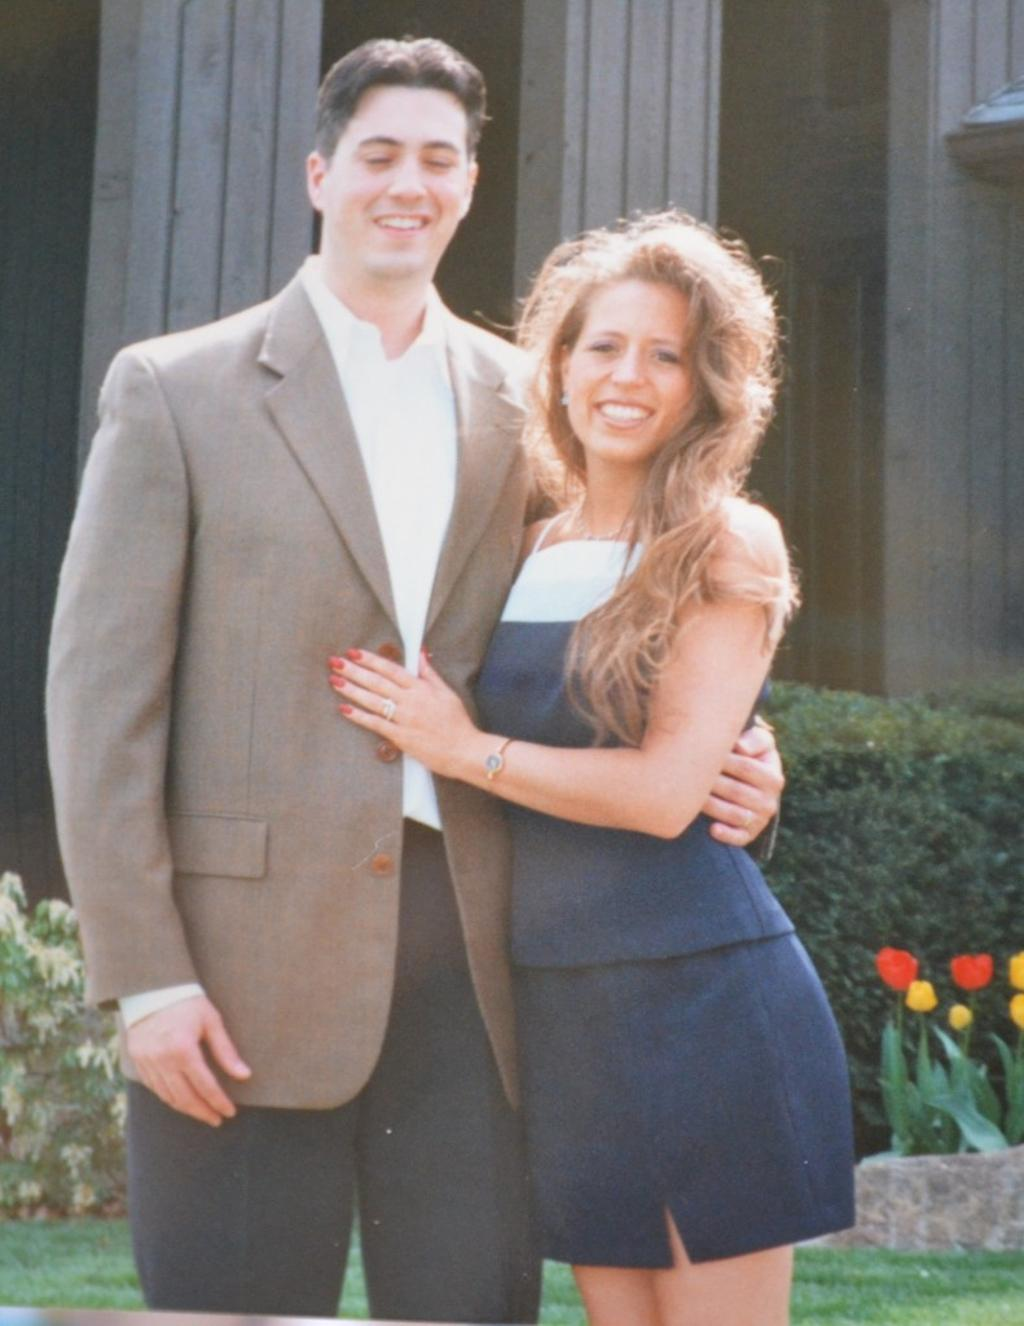face: (323, 83, 470, 277), (566, 266, 700, 457)
